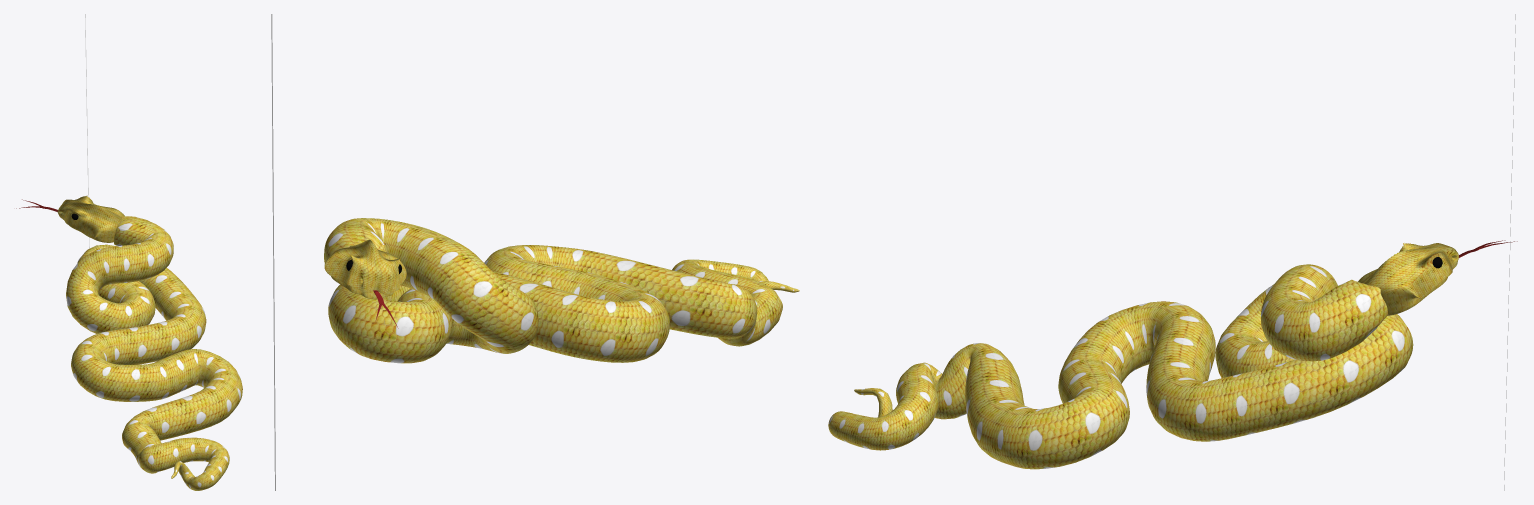
The picture shows the model from 3 angles, left to right: view 1: azimuth 30°, elevation 25°; view 2: azimuth 150°, elevation 25°; view 3: azimuth 270°, elevation 25°; orthographic projection. The views are drawn at different scales.
Parts seen in each view (by area): view 1: Snake; view 2: Snake, Плоскость; view 3: Snake.
Boxes of the visible parts, <box> form: Snake: <box>16,195,242,490</box>; Snake: <box>324,218,799,363</box>; Плоскость: <box>271,14,275,490</box>; Snake: <box>828,240,1517,469</box>.
Bounding box in the file's own units: 17.47 × 33.41 × 41.87.
5 materials, 2 textured.
